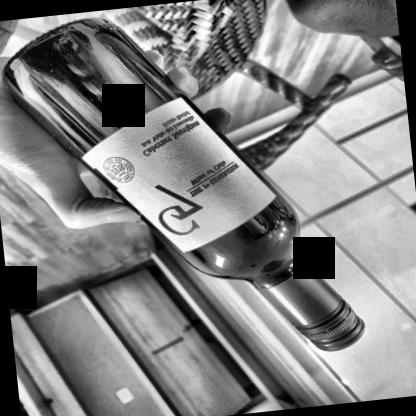G7: (76, 85, 281, 265)
